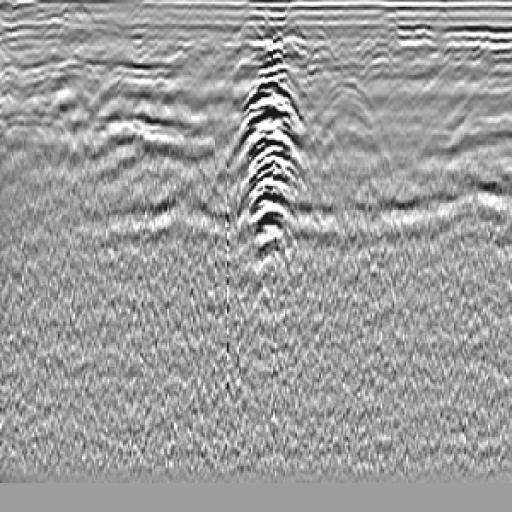metalic: (231, 38, 316, 274)
nonmetalic: (320, 63, 399, 180)
